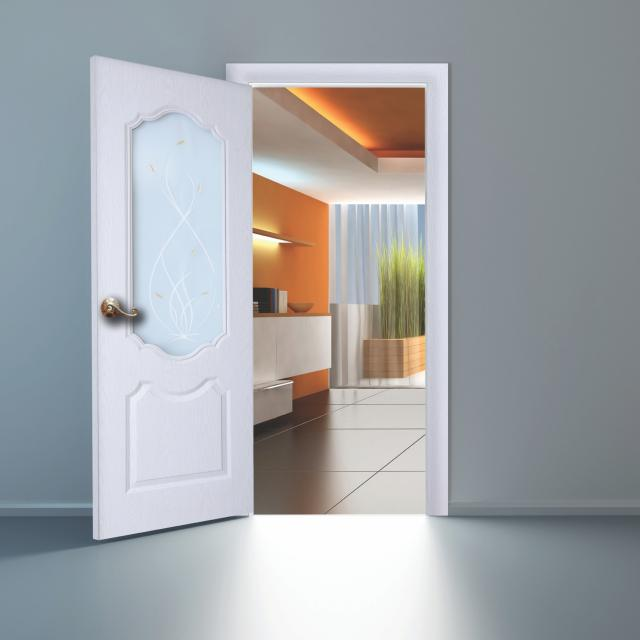open: (104, 69, 452, 518)
